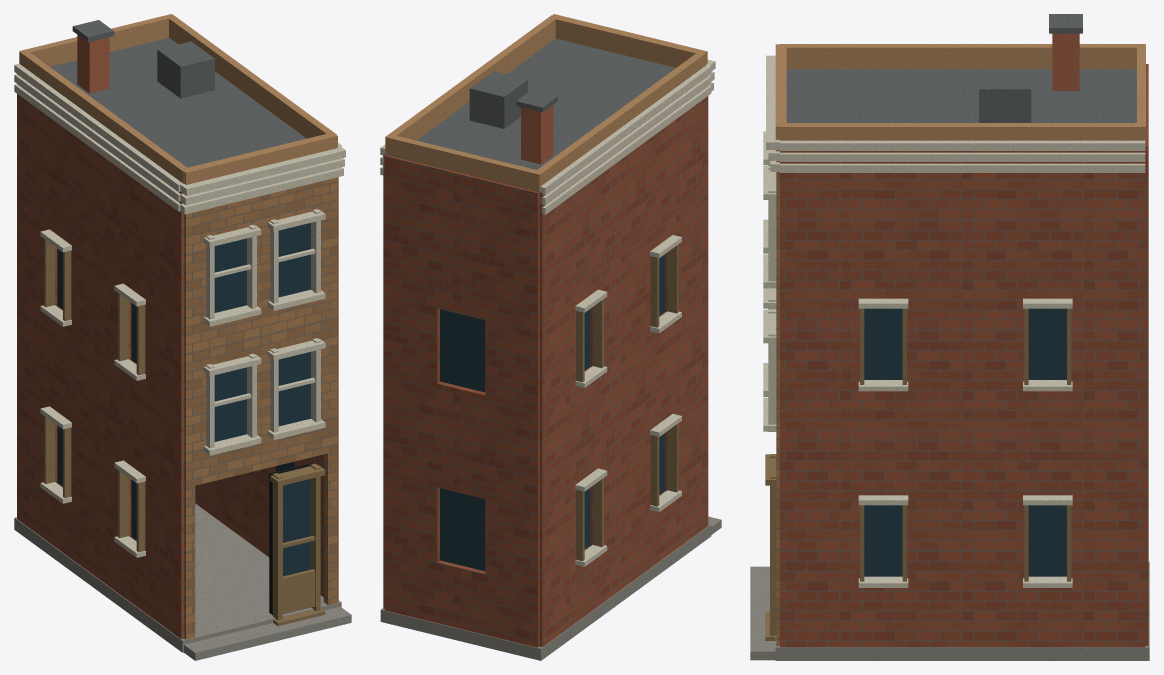
Rendered from VICT31_lod2.glb.
3 renders of one model, left to right at view 1: azimuth 30°, elevation 25°; view 2: azimuth 150°, elevation 25°; view 3: azimuth 270°, elevation 25°, orthographic. The views are drawn at different scales.
Parts seen in each view (by area): view 1: VICT31_LOD2; view 2: VICT31_LOD2; view 3: VICT31_LOD2.
Part boxes in pixels (x1,y1,x2,y2): VICT31_LOD2: (14, 14, 351, 660); VICT31_LOD2: (380, 14, 721, 660); VICT31_LOD2: (750, 14, 1149, 660).
Bounding box in the file's own units: 3.71 × 10.45 × 6.57.
10 materials, 8 textured.
